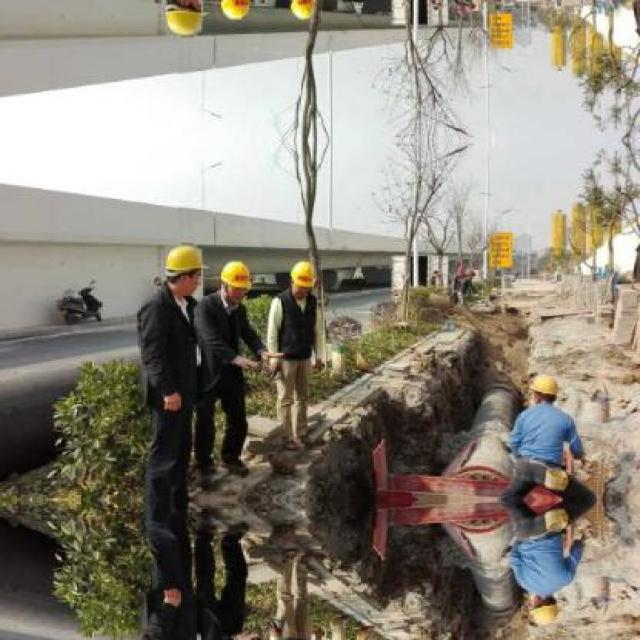helmet: (163, 242, 206, 296), (163, 0, 208, 39), (218, 258, 253, 302), (523, 591, 560, 630), (523, 369, 560, 407), (289, 258, 317, 299), (217, 0, 254, 23), (290, 0, 318, 23)
